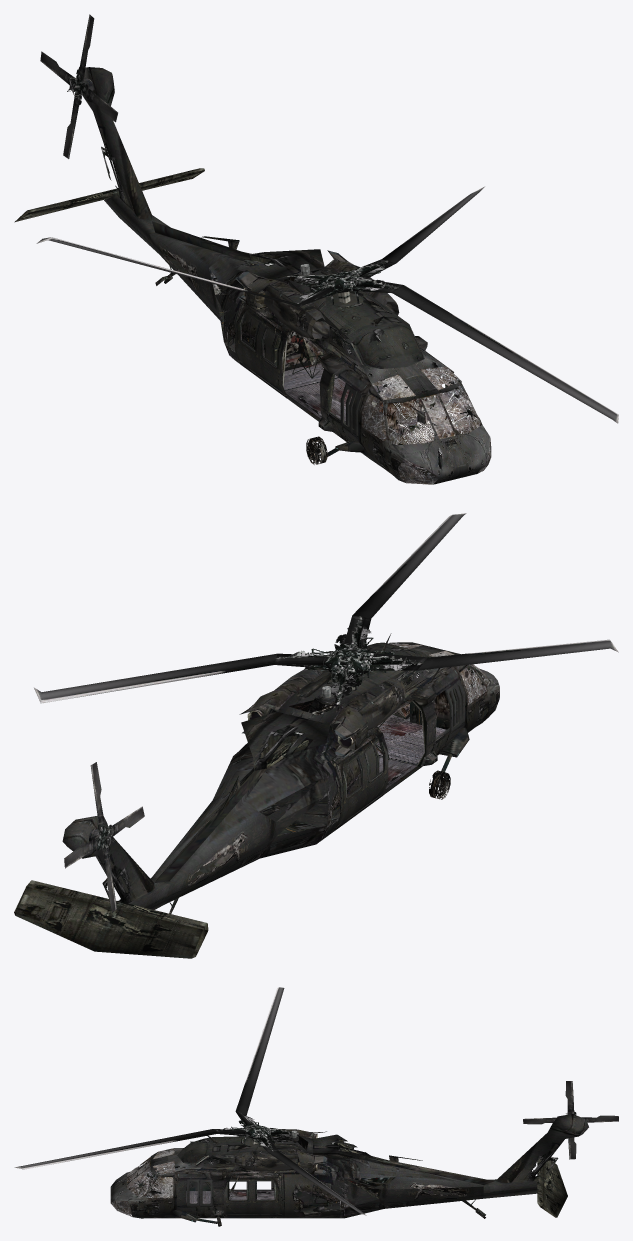
Rendered from fblkhawx.glb.
3 renders of one model, top to bottom at view 1: azimuth 30°, elevation 25°; view 2: azimuth 150°, elevation 25°; view 3: azimuth 270°, elevation 25°, orthographic. The views are drawn at different scales.
Visible parts, largest first — view 1: _fblkhawx; view 2: _fblkhawx; view 3: _fblkhawx.
Part boxes in pixels (x1,y1,x2,y2): _fblkhawx: [14, 14, 618, 484]; _fblkhawx: [14, 513, 618, 958]; _fblkhawx: [14, 987, 618, 1226].
Size of the model in its own units: 17.11 by 7.75 by 28.14.
Materials: 4 (4 with a texture image).
